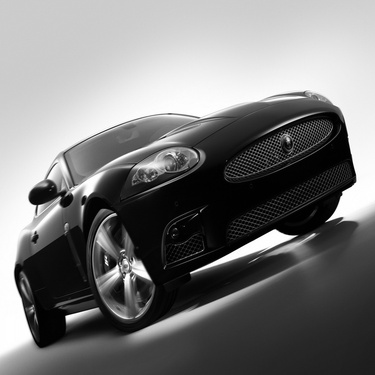car: (13, 95, 375, 351)
